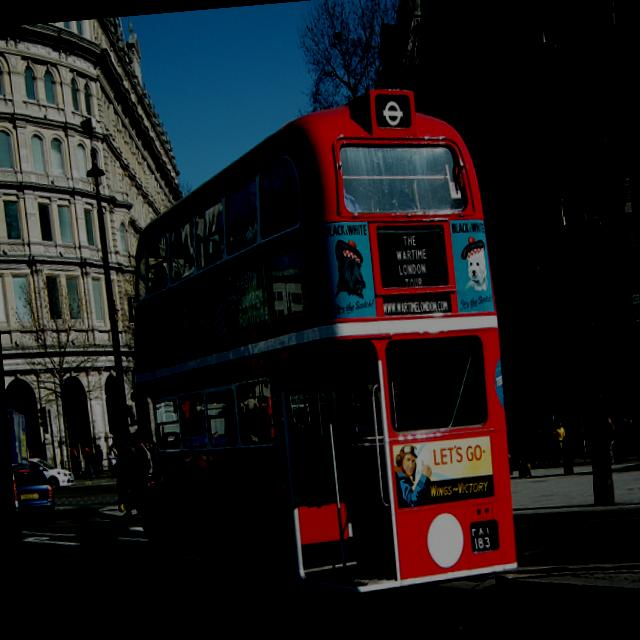Vehicle: (105, 84, 526, 634), (12, 464, 56, 525), (28, 455, 76, 492), (6, 404, 29, 462), (10, 449, 22, 537)
